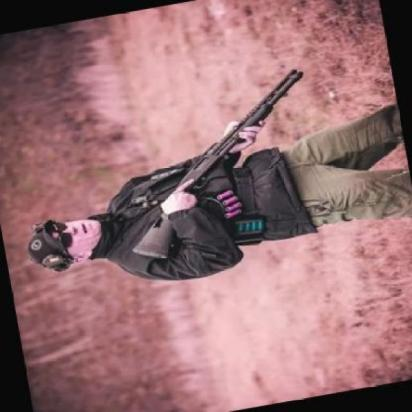Gun: (108, 66, 335, 260)
